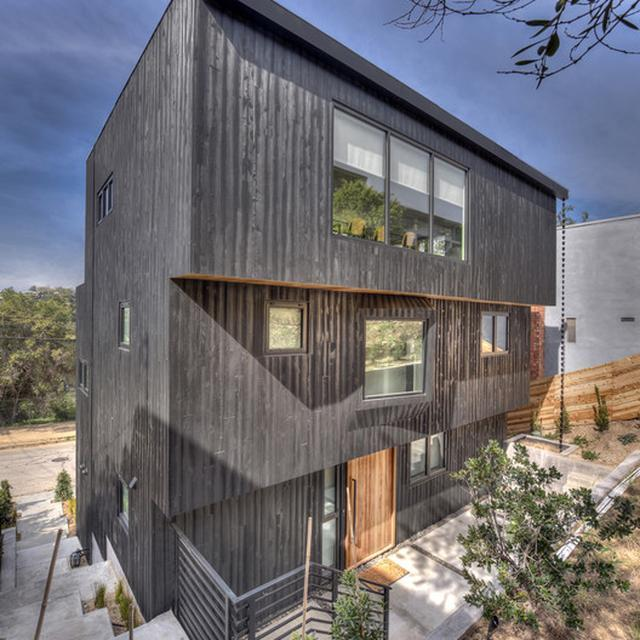building: (74, 0, 565, 614)
